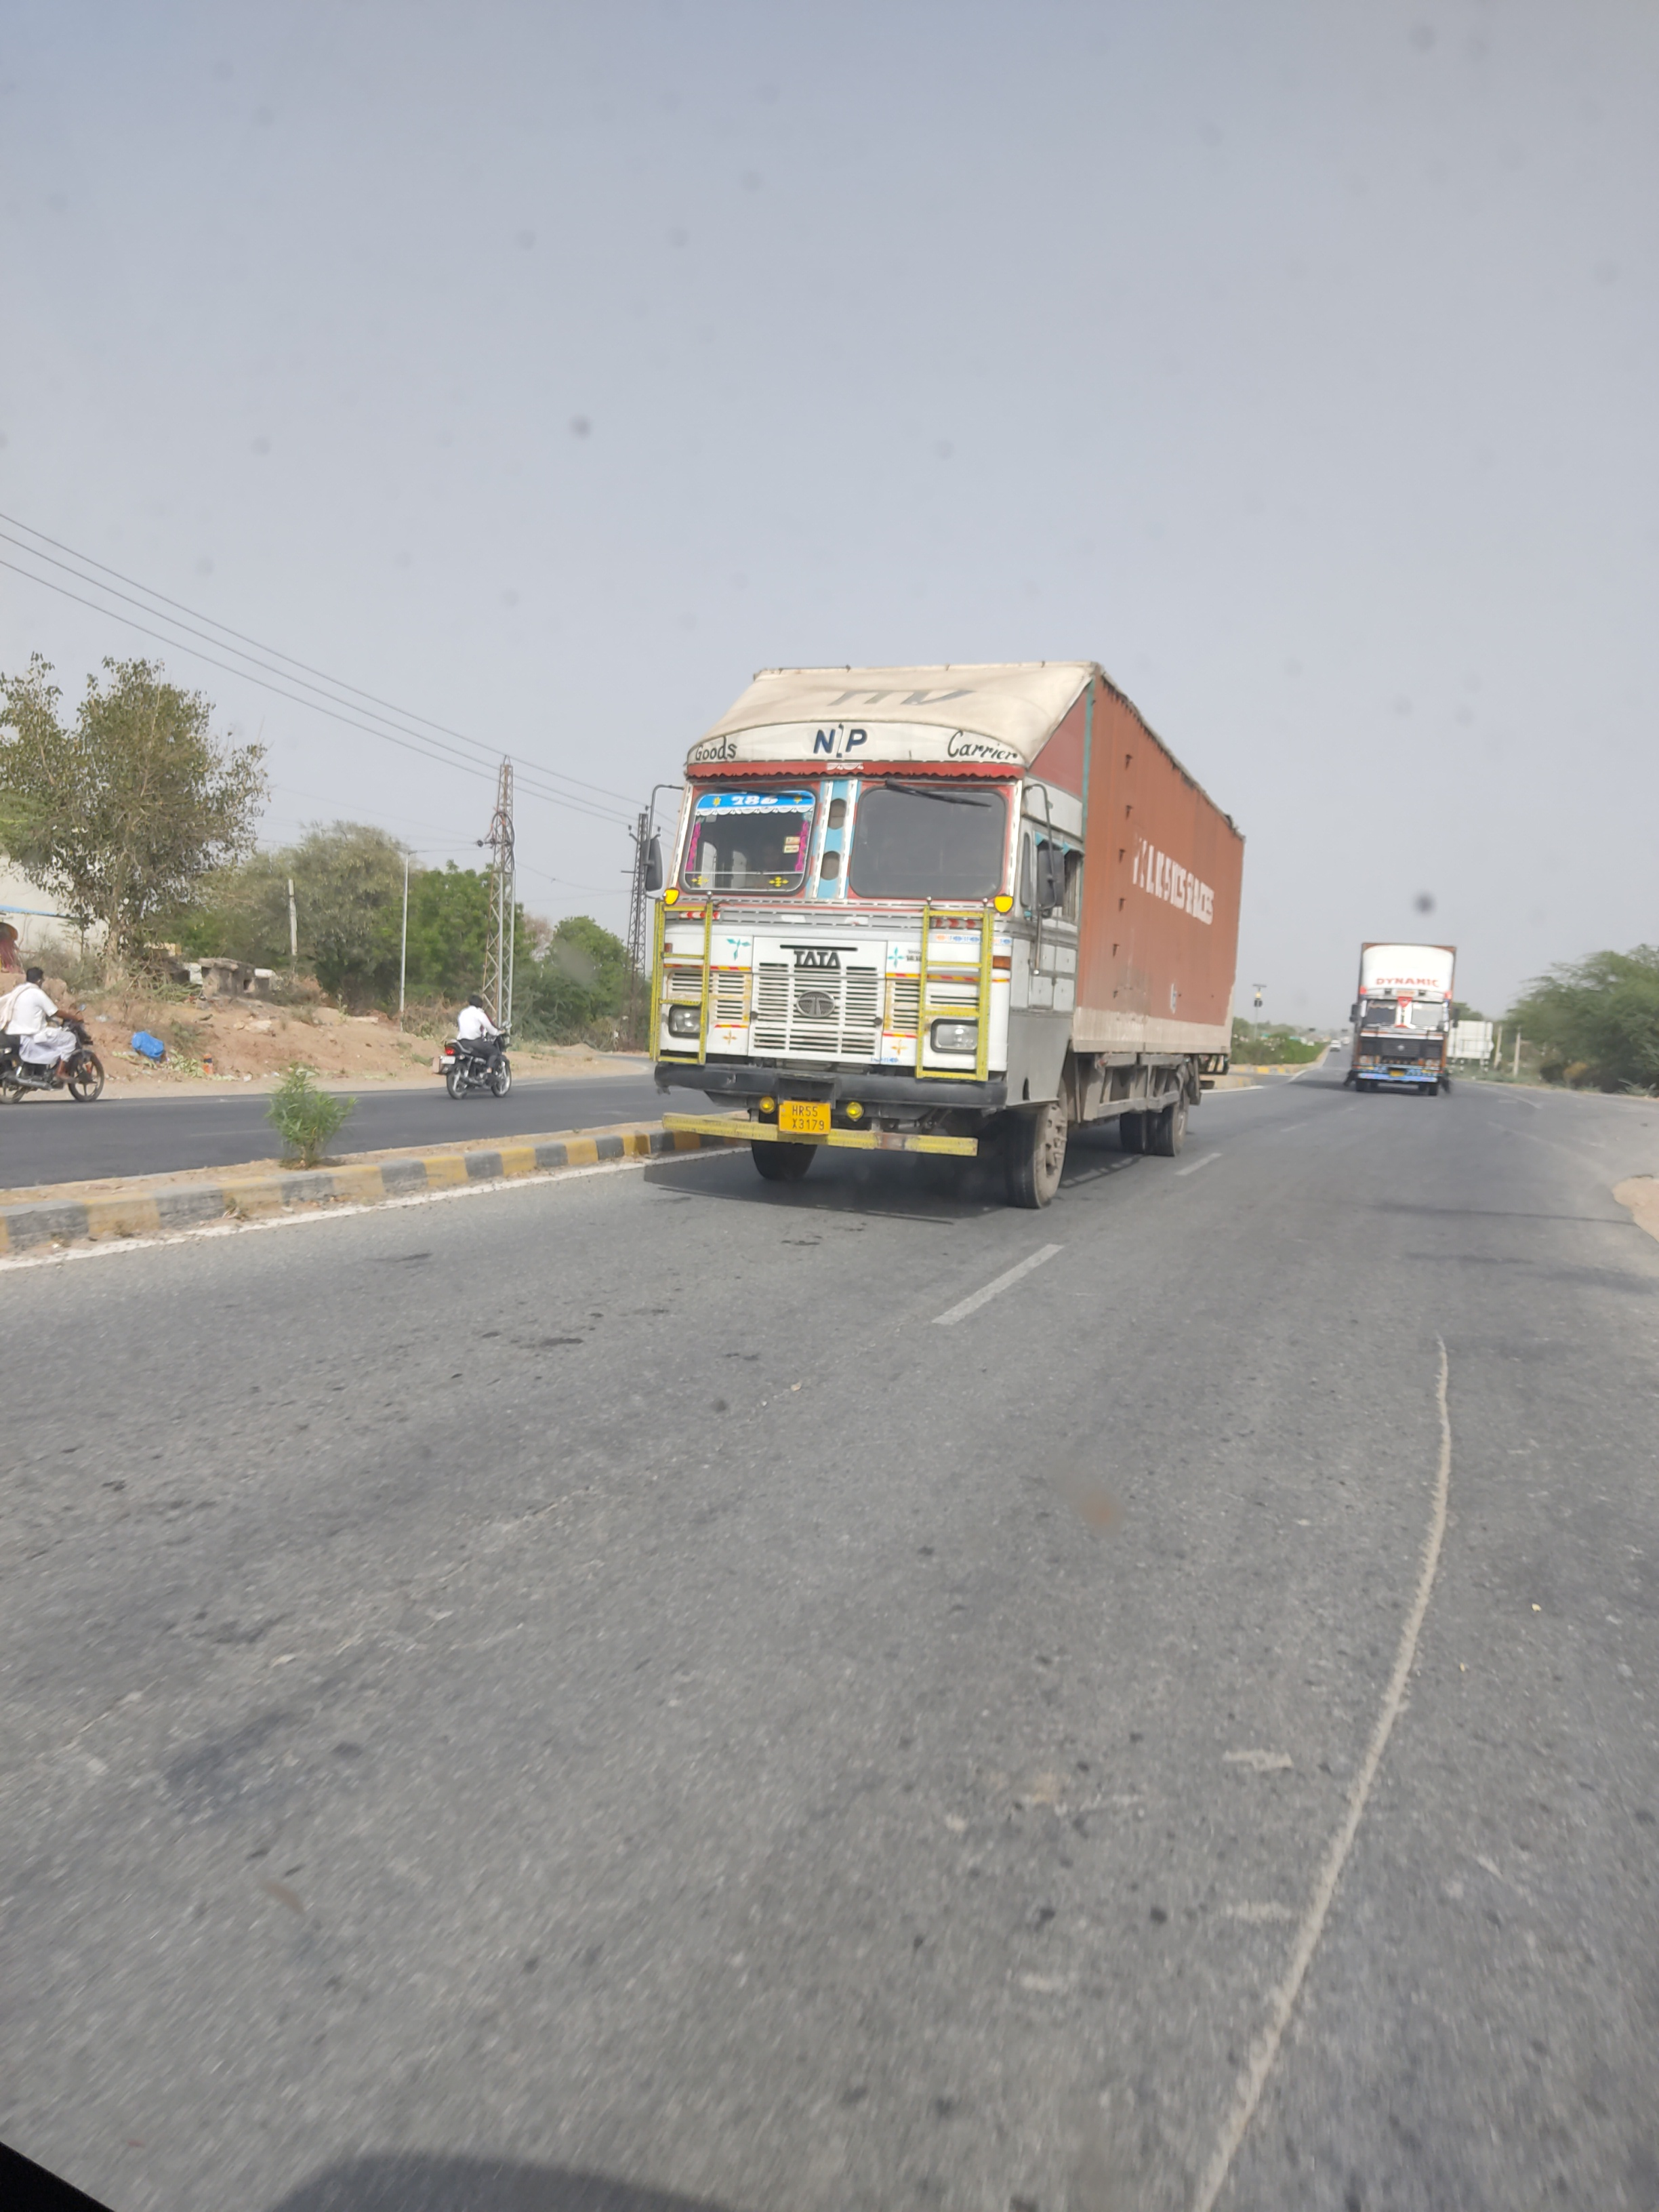truck: (638, 655, 1251, 1214), (1342, 941, 1460, 1097)
